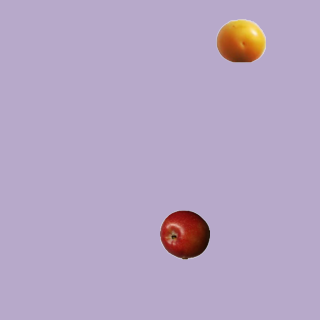Apple Braeburn: (159, 209, 209, 259)
Cherry Wax Yellow: (215, 15, 265, 65)
